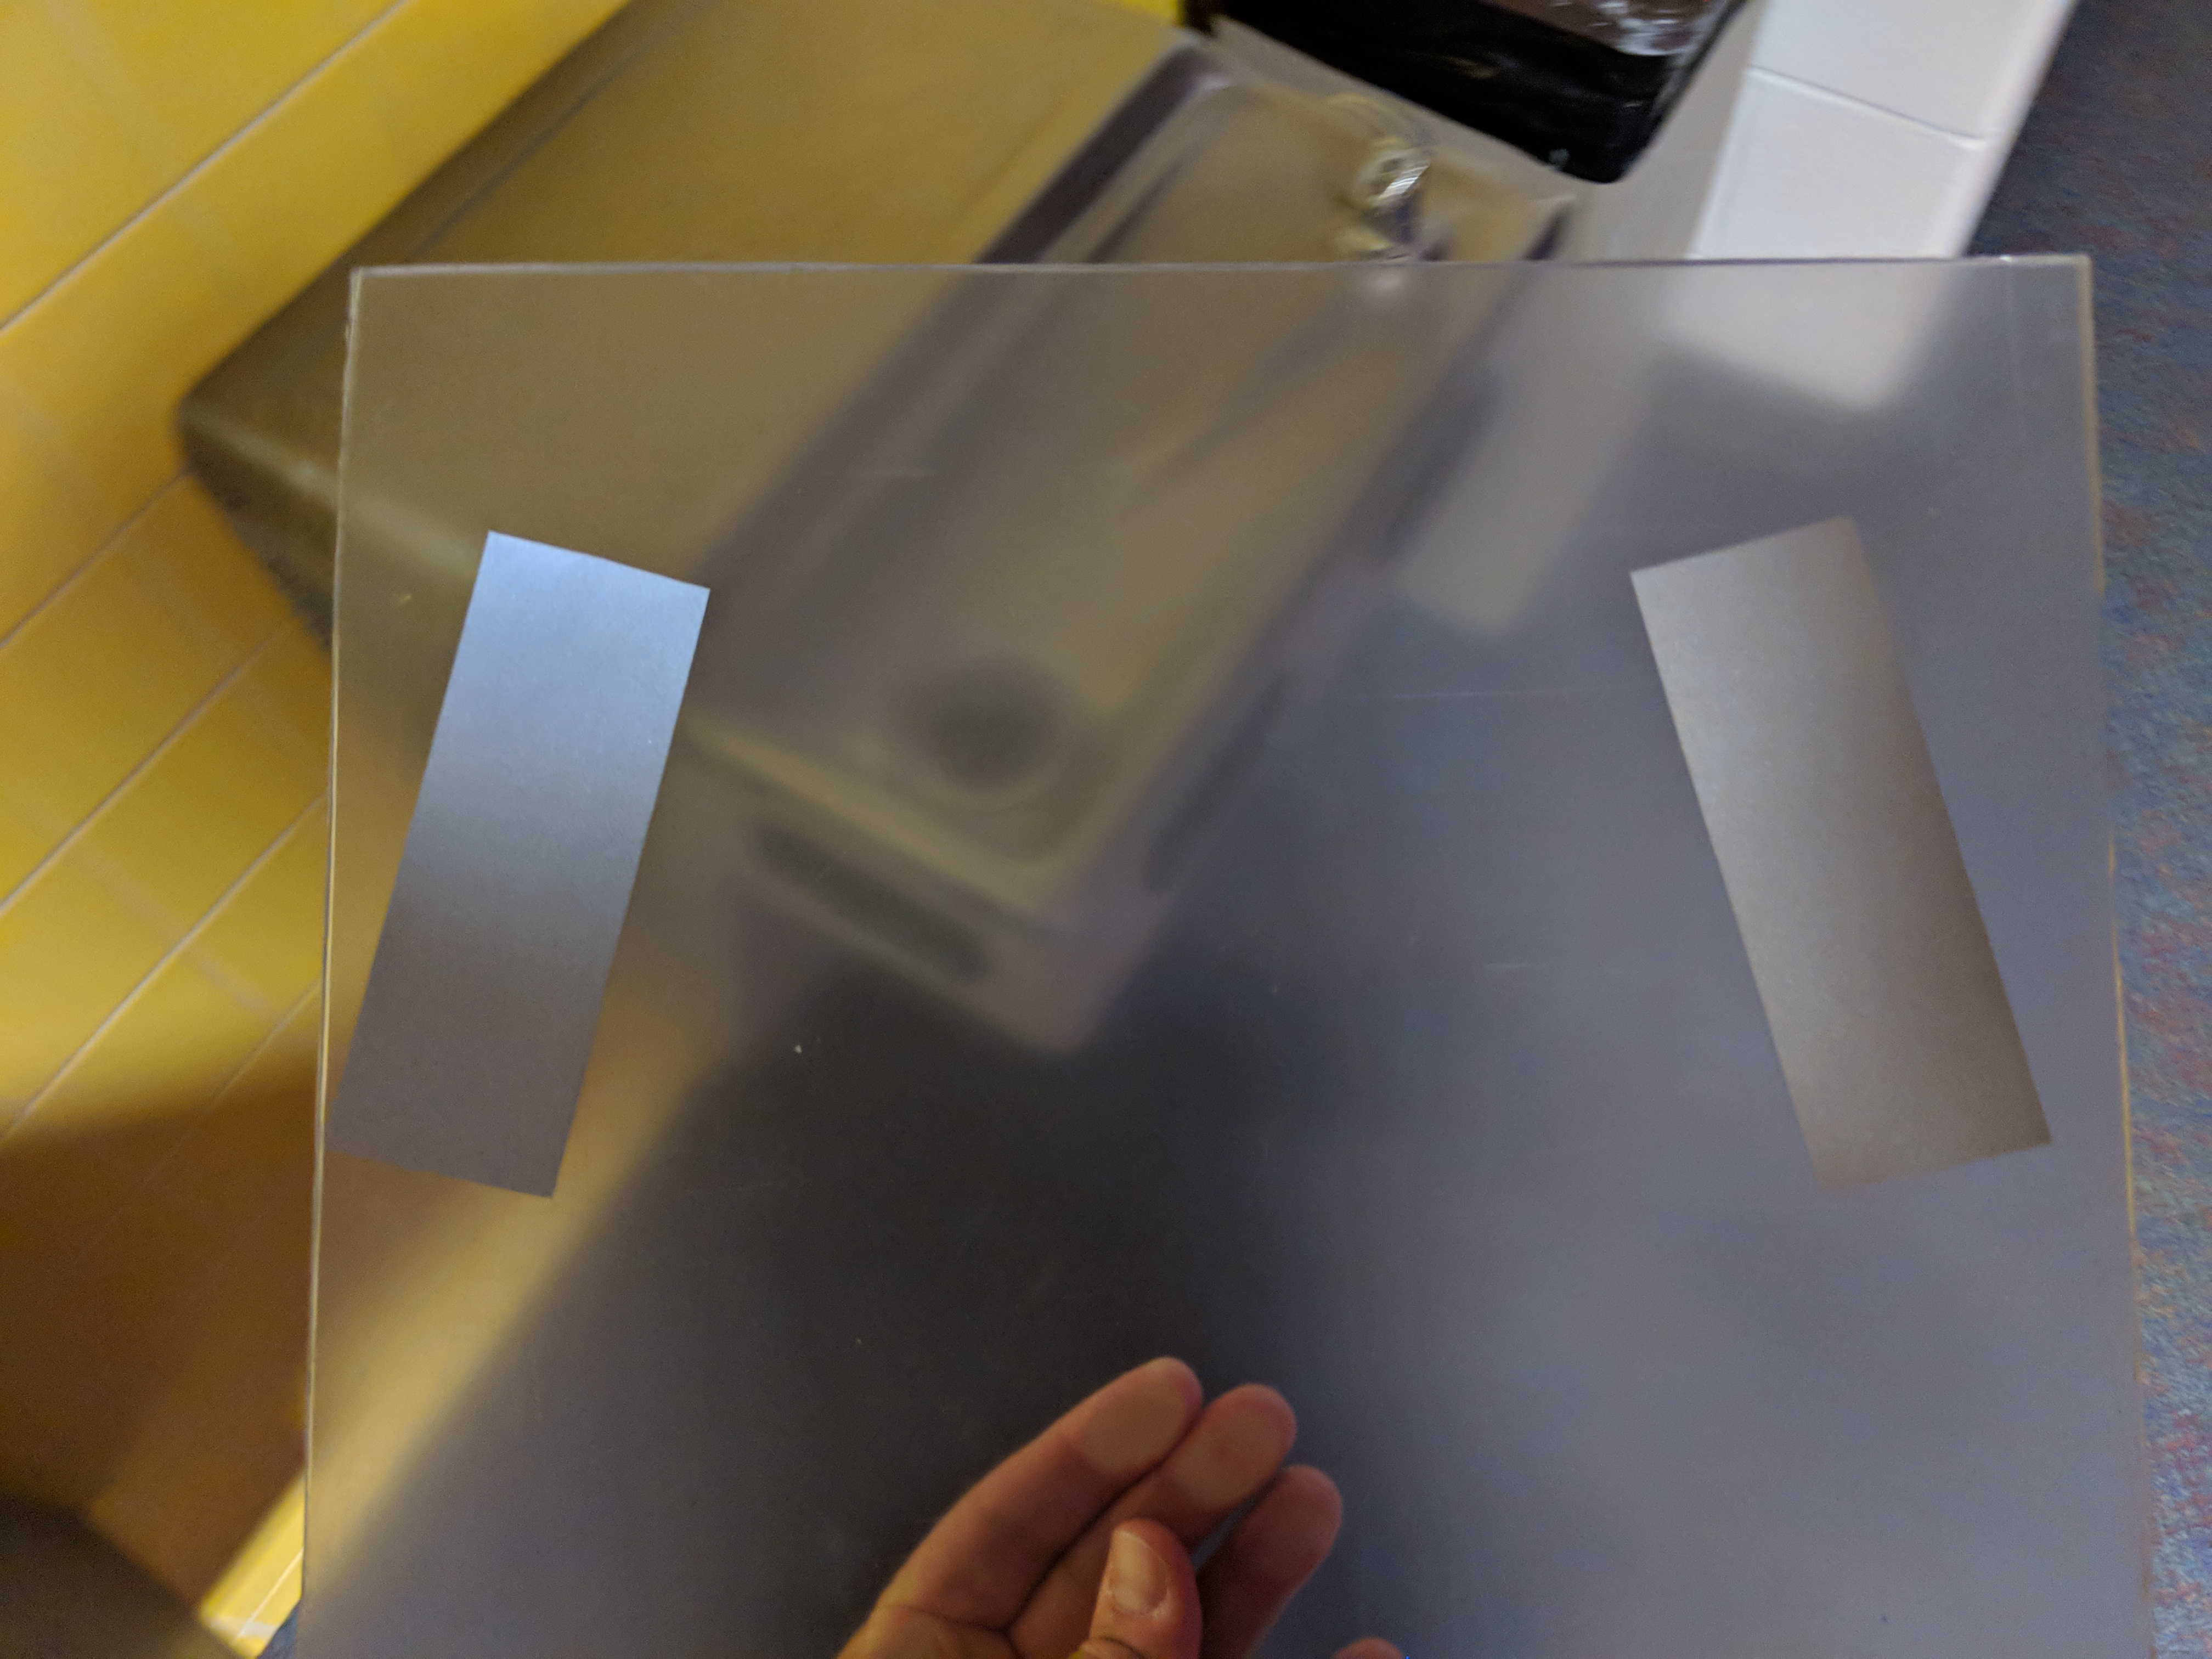vision_target: (305, 500, 2088, 1218)
